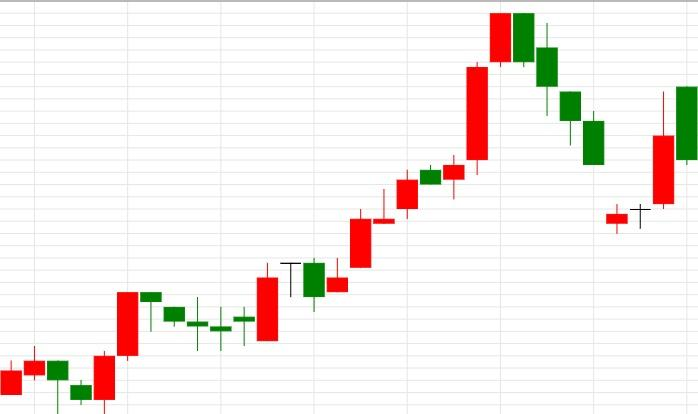bearish_engulfing_fall: (256, 12, 535, 341)
bullish_engulfing_rise: (23, 346, 116, 414)
evening_star_fall: (209, 258, 325, 350)
